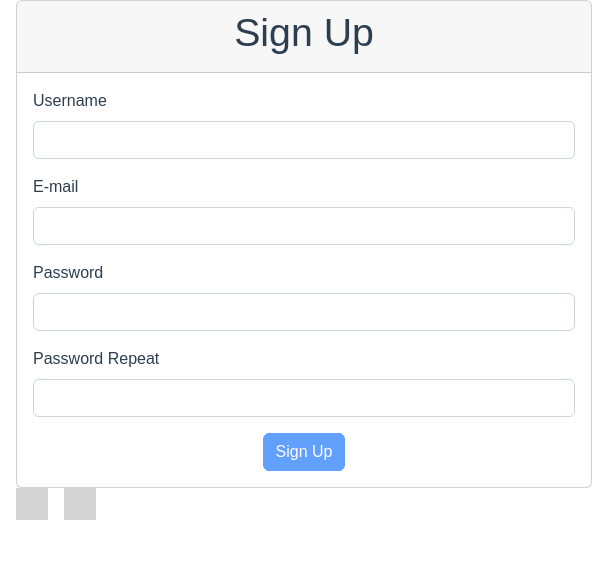
Test: Sign Up Page › Interactions › displays Username cannot be null for field username
Type "user1" into the field labelled "Username".
click(304, 140); type("user1")  # box [33, 121, 575, 159]
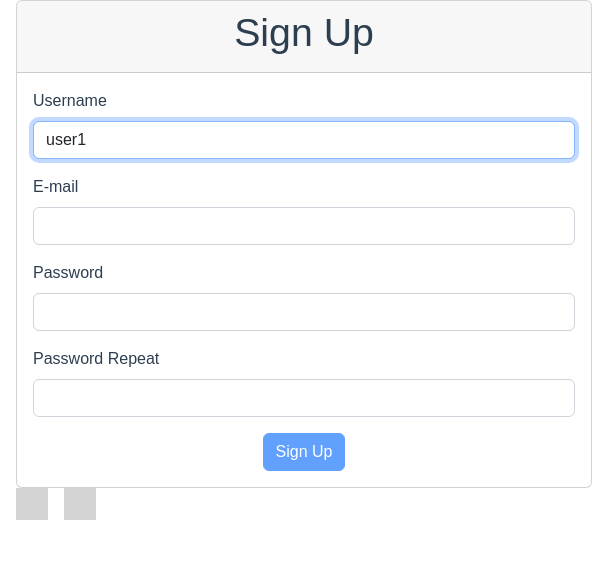
Type "user1@gmail.com" into the field labelled "E-mail".
click(304, 226); type("user1@gmail.com")  # box [33, 207, 575, 245]
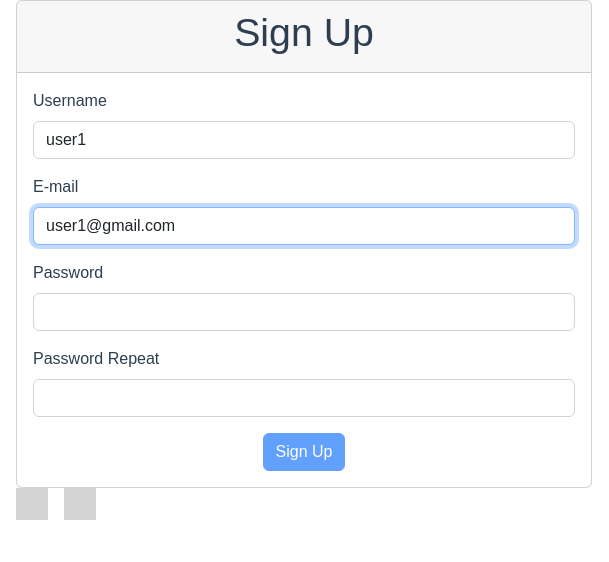
Type "P4ssword" into the password field labelled "Password".
click(304, 312); type("P4ssword")  # box [33, 293, 575, 331]
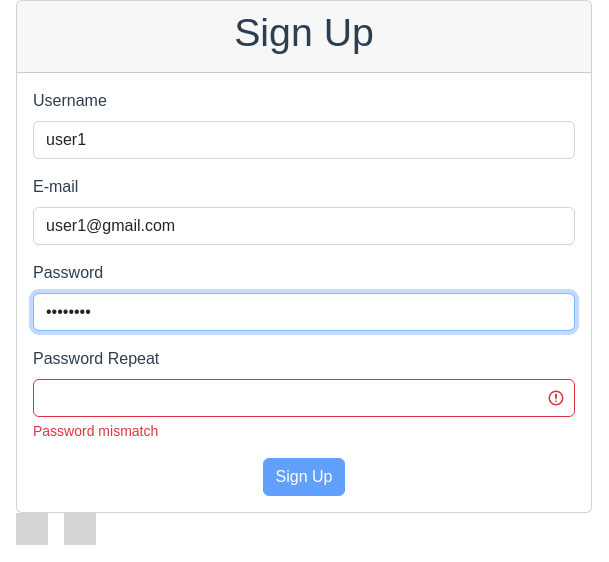
Type "P4ssword" into the password field labelled "Password Repeat".
click(304, 398); type("P4ssword")  # box [33, 379, 575, 417]
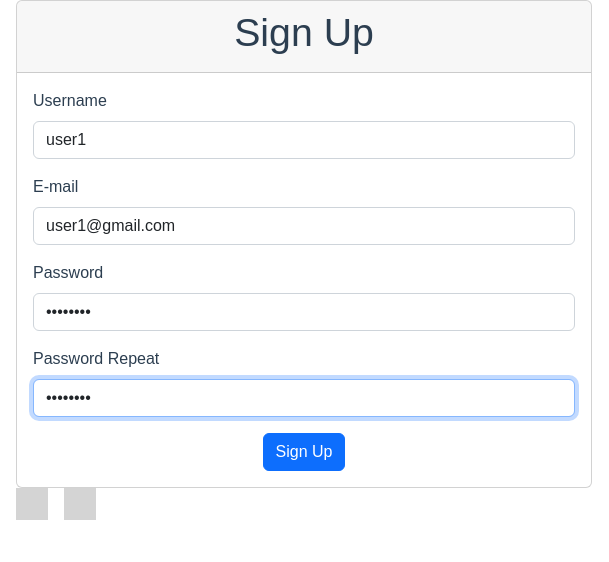
Click the button "Sign Up".
click(304, 452)  # box [262, 433, 345, 471]
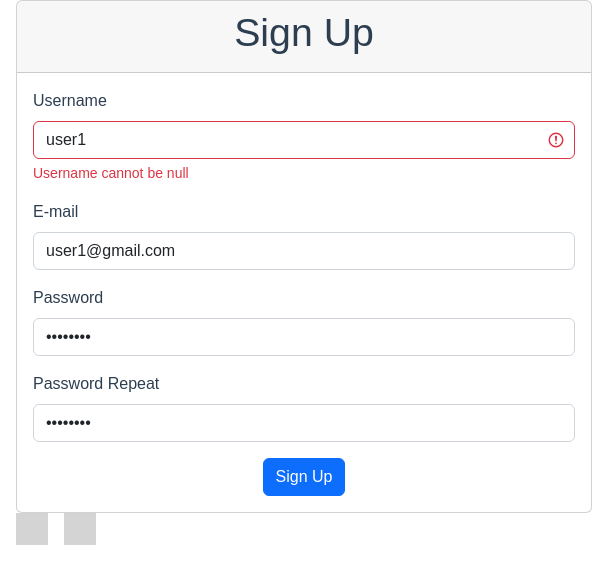
Result: the text "Username cannot be null" is shown at [33, 165, 189, 181]
